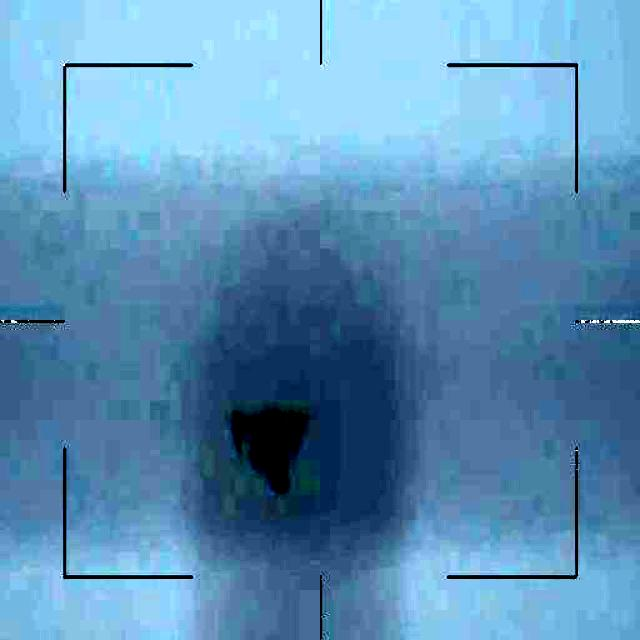bird: (226, 402, 314, 496)
